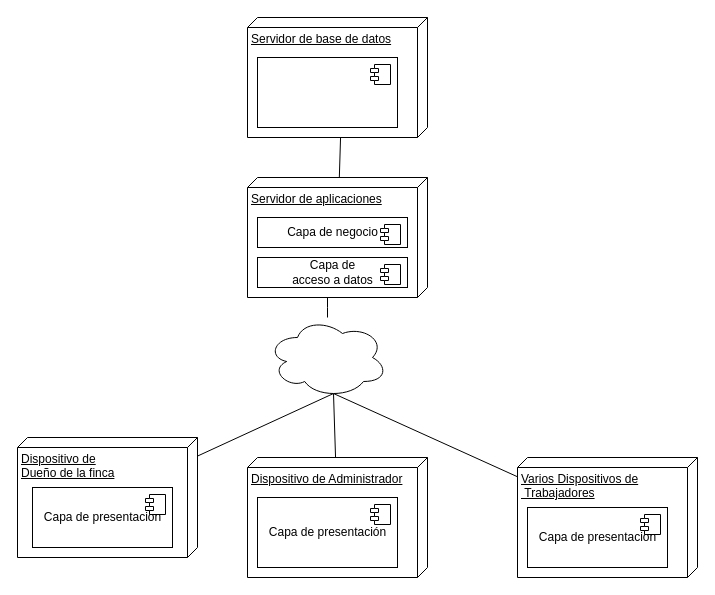
Image size: 715x595. Some labels were removed from this diagram. The shapes that lost their labels are listed below. From the top down, each one's centre as x and y in pixels, then its label:
At pixel 327 92: "SQL SERVER".
At pixel 327 357: "Internet".
